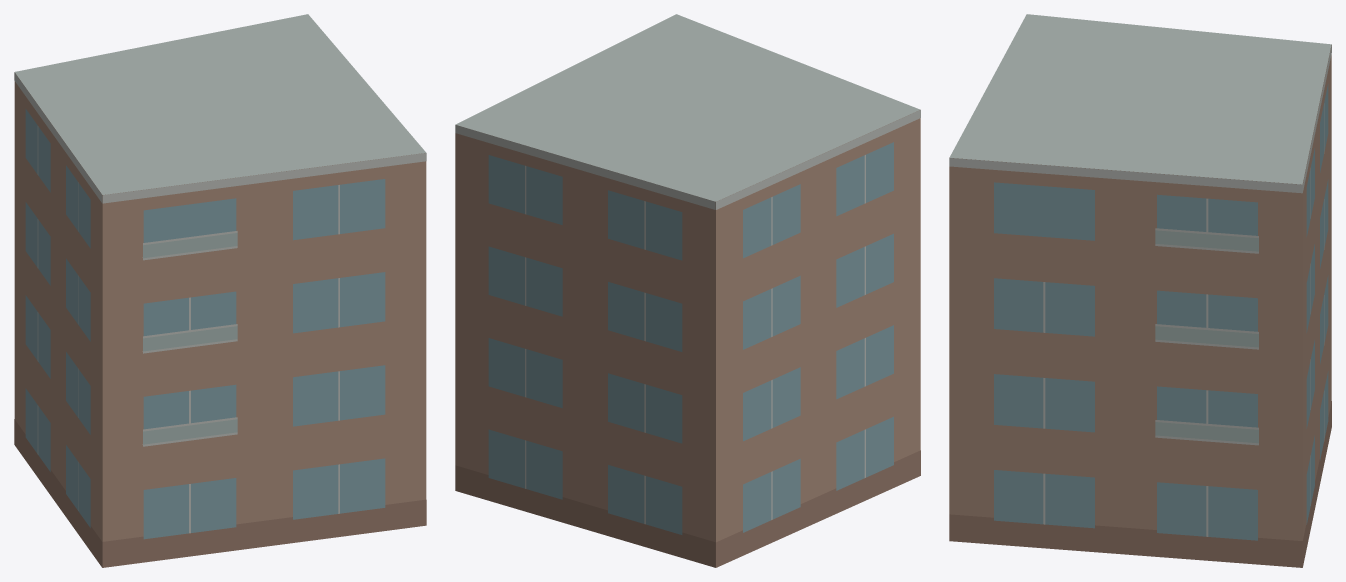
Rendered from survey-upis-32740164.glb.
3 views of the same model, side by side, from view 1: azimuth 30°, elevation 25°; view 2: azimuth 150°, elevation 25°; view 3: azimuth 270°, elevation 25° (orthographic). The views are drawn at different scales.
Parts seen in each view (by area): view 1: survey-upis-32740164.tmp; view 2: survey-upis-32740164.tmp; view 3: survey-upis-32740164.tmp.
Boxes of the visible parts, left/top/right/bottom form: survey-upis-32740164.tmp: left=14, top=14, right=426, bottom=567; survey-upis-32740164.tmp: left=455, top=14, right=920, bottom=567; survey-upis-32740164.tmp: left=949, top=14, right=1331, bottom=567.
Bounding box in the file's own units: 10.22 × 10.7 × 9.68.
